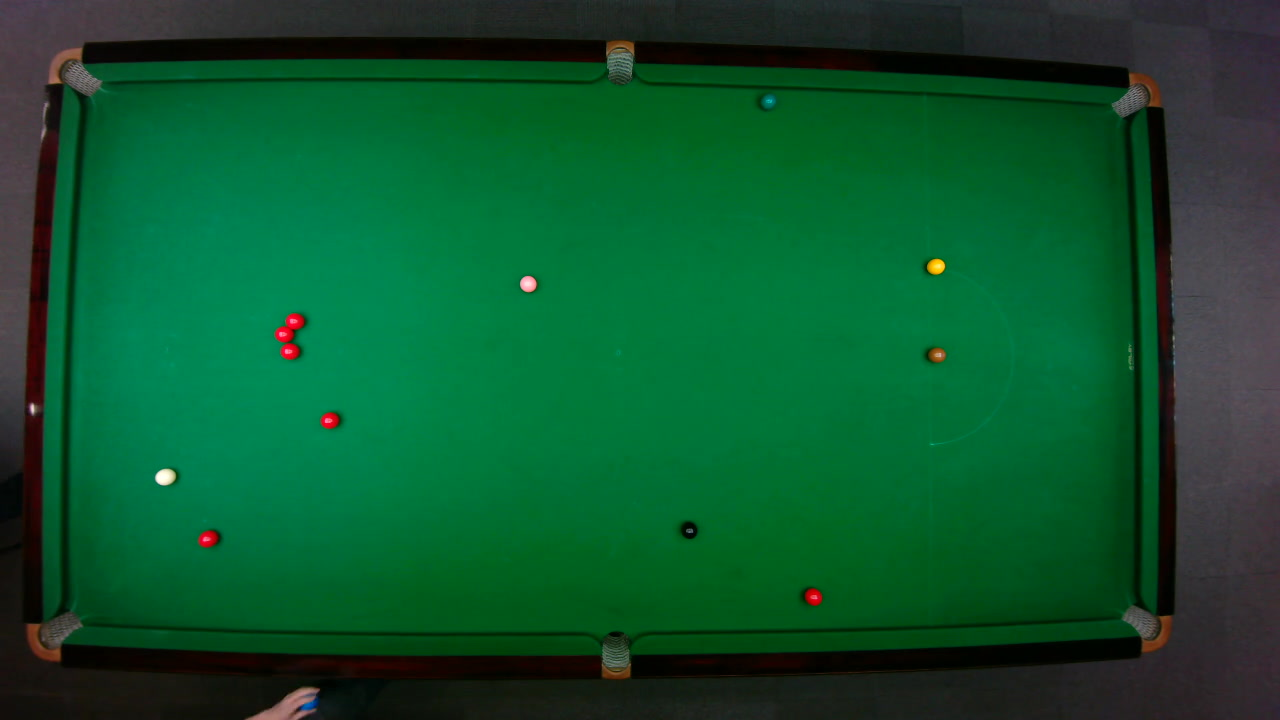bag: (25, 609, 84, 661), (45, 46, 102, 97), (1119, 603, 1171, 652), (1108, 71, 1161, 118), (600, 629, 629, 680), (605, 38, 633, 85)
black: (679, 521, 697, 539)
brown: (926, 346, 946, 362)
green: (759, 93, 776, 110)
pink: (518, 274, 537, 292)
red: (196, 528, 219, 547), (802, 586, 823, 606), (284, 311, 305, 330), (279, 342, 300, 360), (273, 324, 293, 342), (319, 411, 339, 429)
white: (153, 466, 177, 485)
yellow: (925, 257, 946, 275)
zone: (927, 267, 1013, 445)
